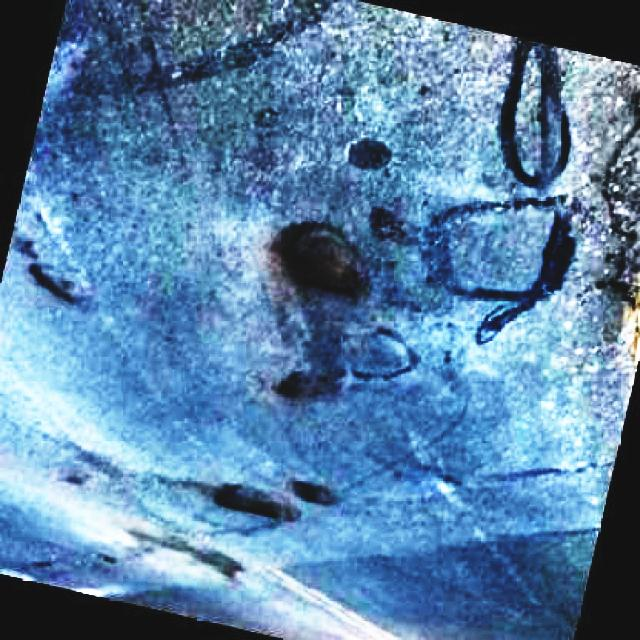pothole: (276, 214, 376, 303), (220, 475, 300, 523), (28, 257, 94, 314), (275, 365, 343, 409), (346, 134, 400, 175), (368, 206, 415, 248), (292, 471, 336, 511)
